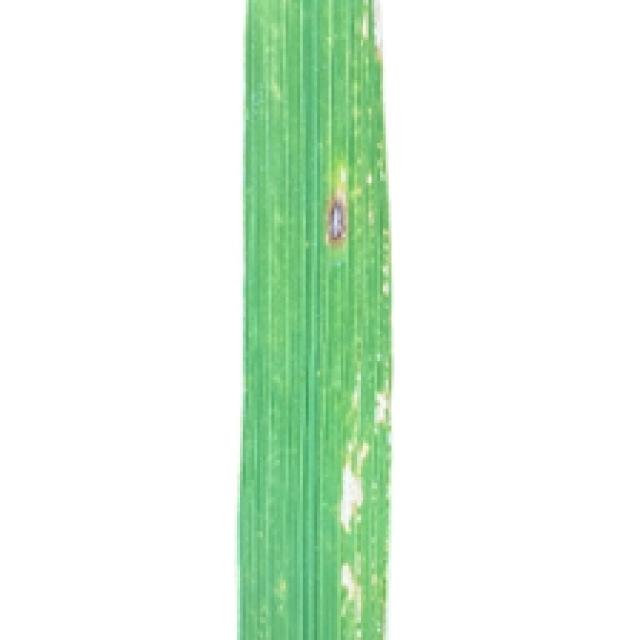Rice___Rice_Blast: (237, 0, 391, 637)
